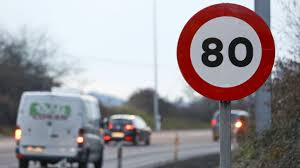Speed_limit_80km: (175, 3, 275, 101)
